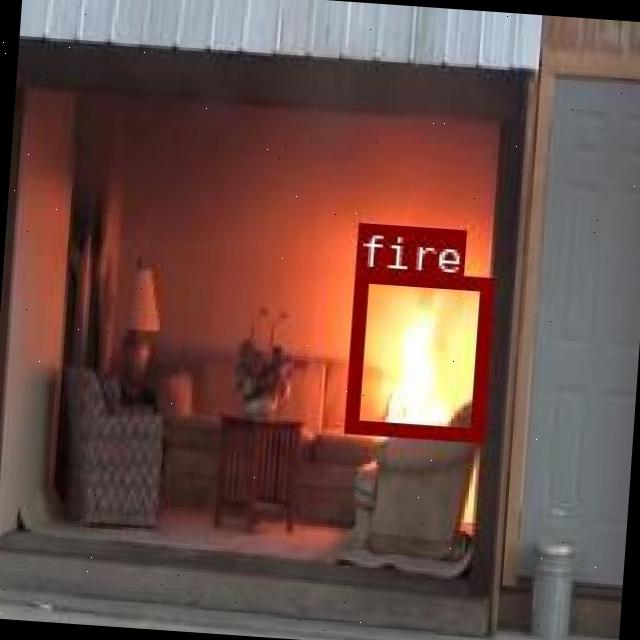fire: (342, 266, 491, 438)
